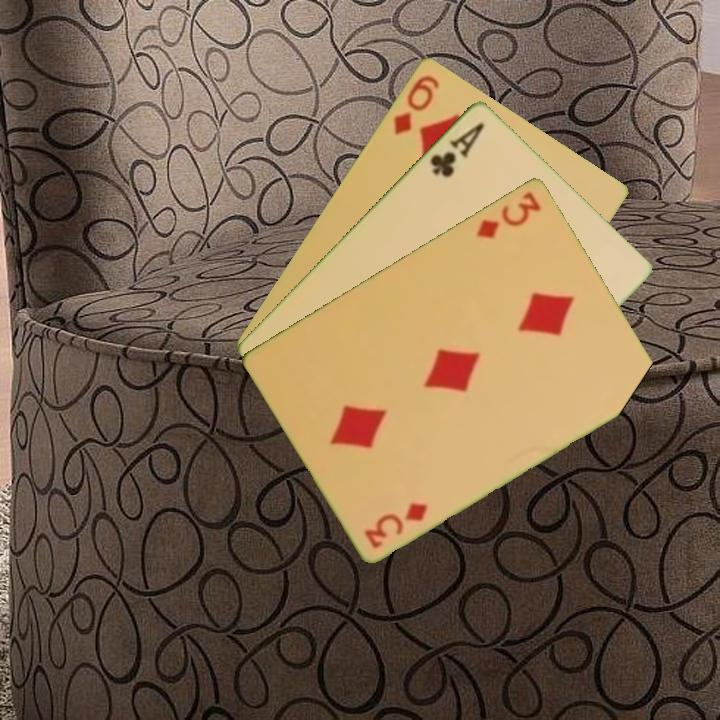3d: (472, 187, 544, 241), (360, 498, 431, 551)
6d: (389, 71, 442, 138)
Ac: (426, 118, 488, 180)
